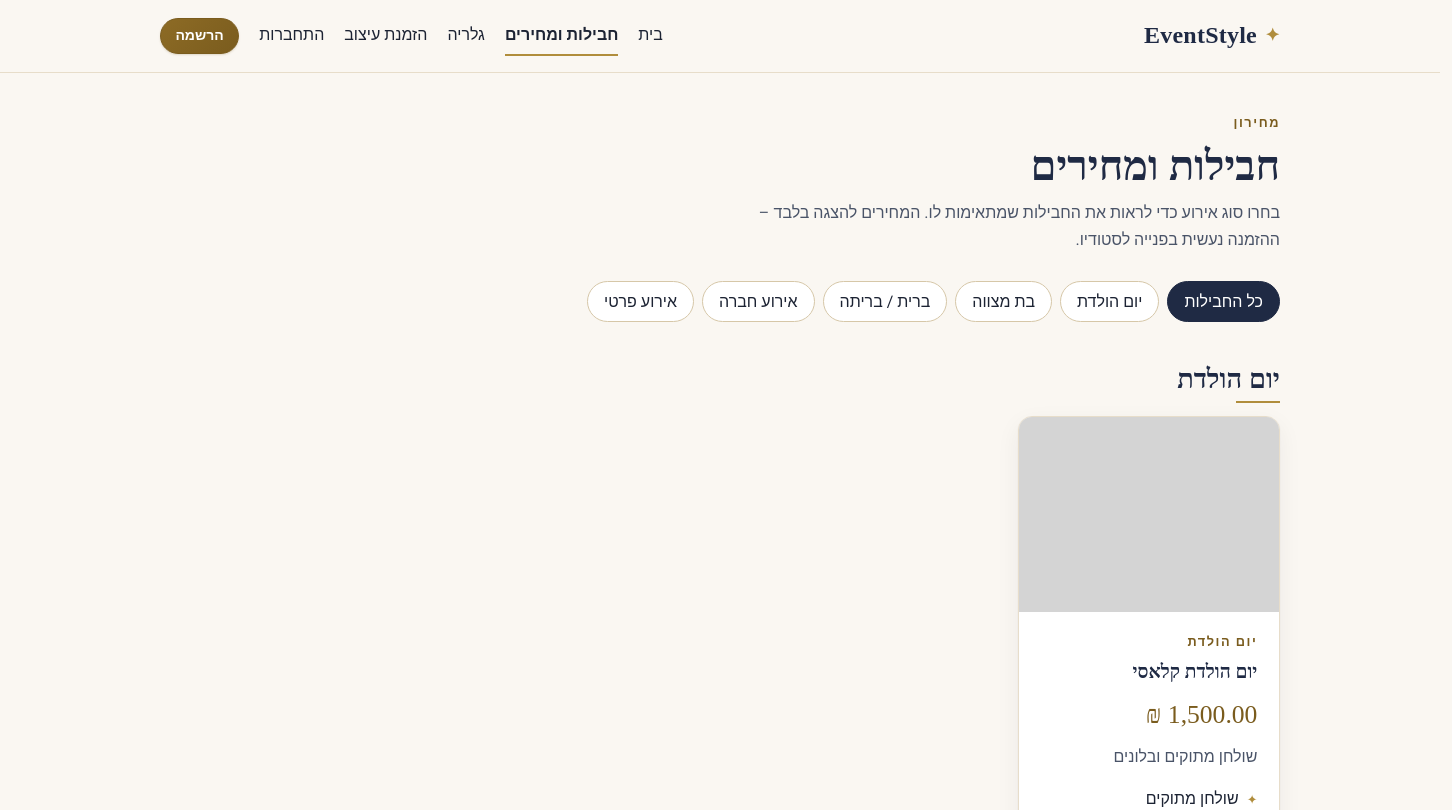
Scenario: Packages and price list per event type › choosing an event type requests that type from the server and keeps it in the URL
The image size is (1452, 810).
Step 1. Click the tab "יום הולדת" → (1110, 302), box top-left (1060, 281), bottom-right (1159, 322)
(page scrolled)
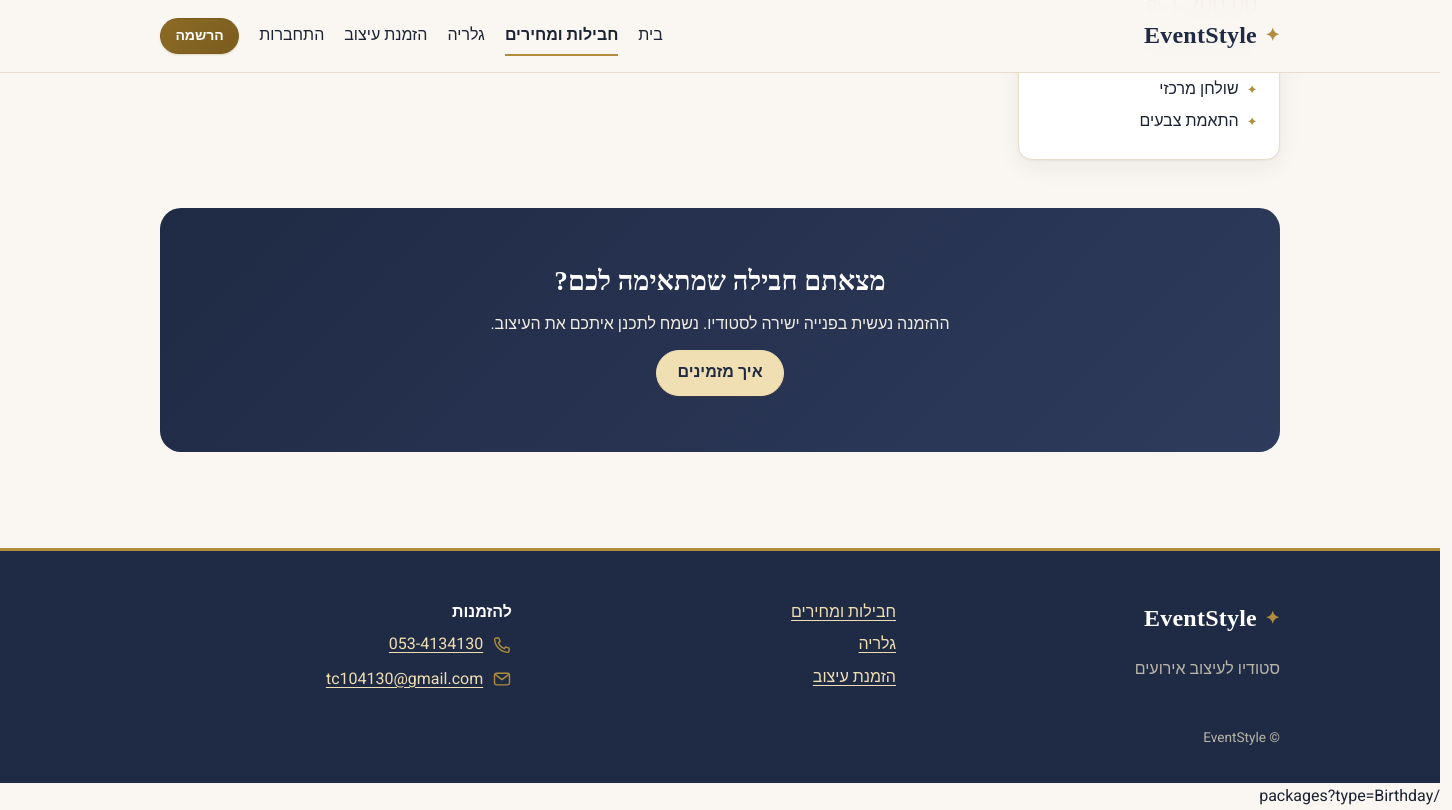
Expected: the text with test id "location" reads "/packages?type=Birthday", top-left (1259, 784), bottom-right (1440, 808)
